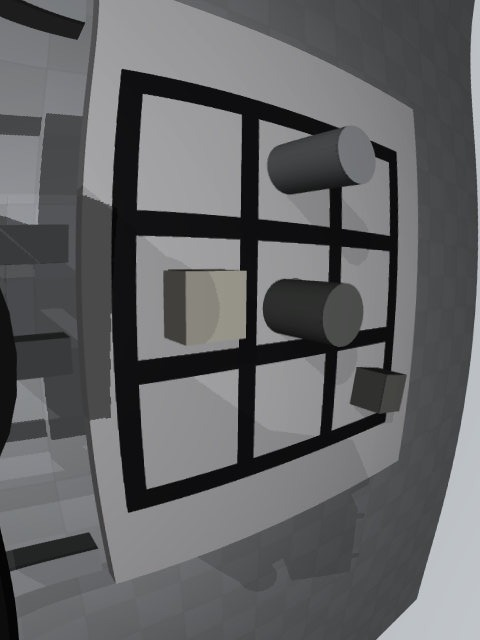can: (267, 125, 376, 194)
cube: (350, 367, 407, 414)
cylinder: (263, 279, 363, 347)
foam: (163, 270, 247, 345)
